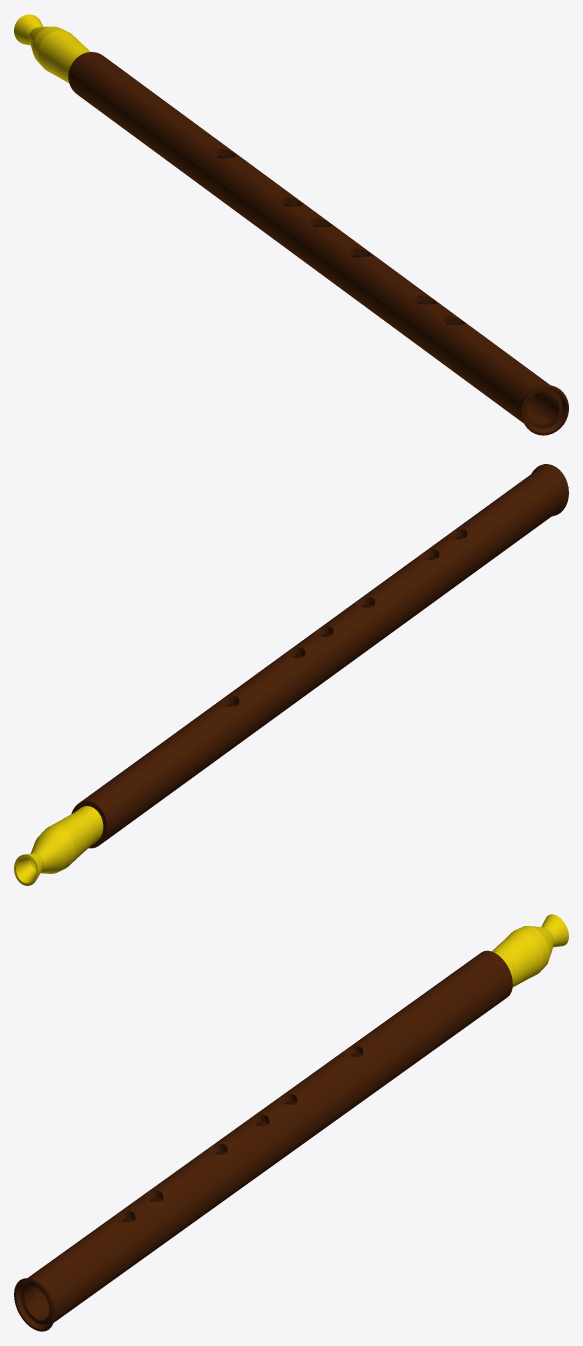
The model's file is flute.fbx.
3 renders of one model, top to bottom at view 1: azimuth 30°, elevation 25°; view 2: azimuth 150°, elevation 25°; view 3: azimuth 330°, elevation 25°, orthographic.
Visible parts, largest first — view 1: Object_2; view 2: Object_2; view 3: Object_2.
Boxes of the visible parts, bbox=[...] form: Object_2: bbox=[14, 14, 568, 435]; Object_2: bbox=[14, 464, 568, 885]; Object_2: bbox=[14, 914, 568, 1331].
Bounding box in the file's own units: 2187 × 2307 × 42464.
